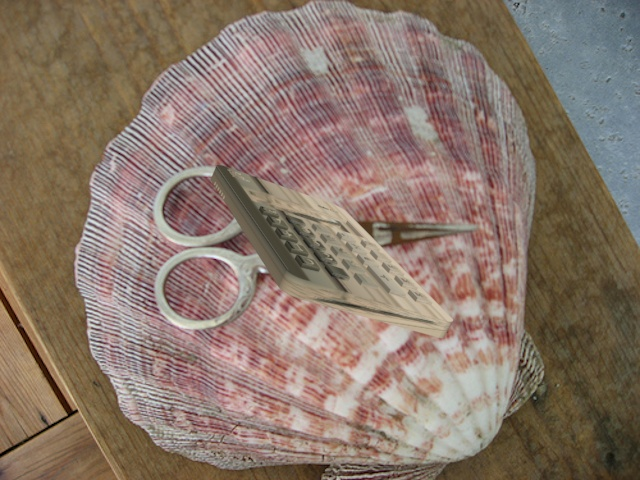calculator: (209, 161, 464, 353)
